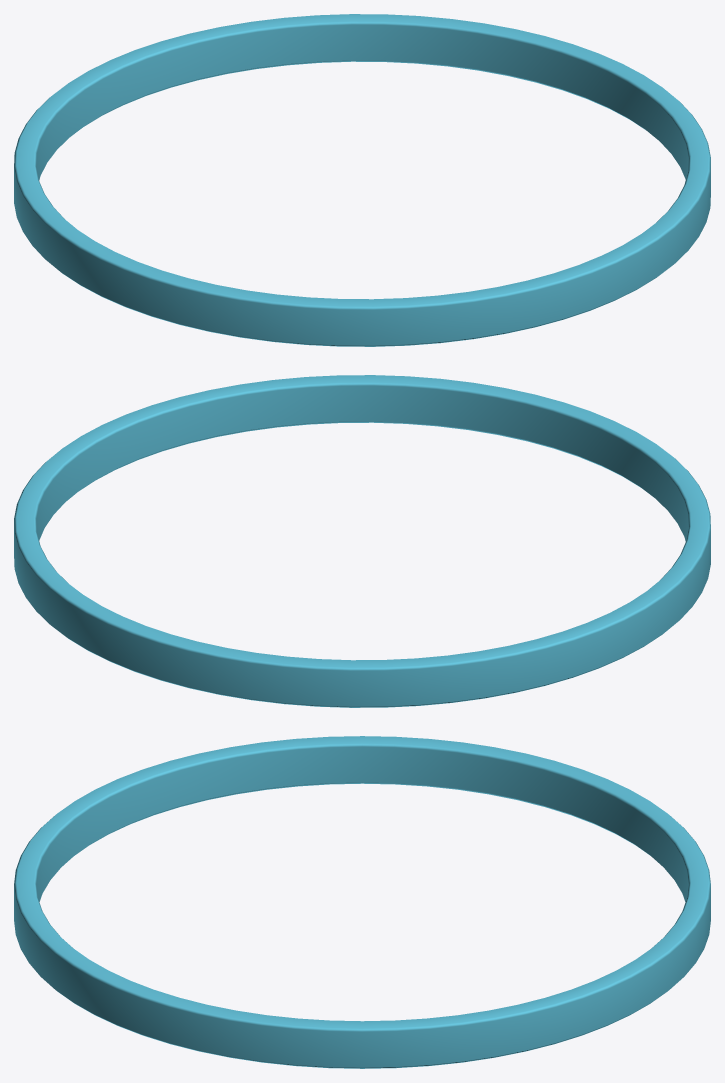
3 views of the same model, one above another, from view 1: azimuth 30°, elevation 25°; view 2: azimuth 150°, elevation 25°; view 3: azimuth 270°, elevation 25° (orthographic).
Visible parts, largest first — view 1: seal_body; view 2: seal_body; view 3: seal_body.
Part boxes in pixels (left/top/right/bottom): seal_body: left=14, top=14, right=710, bottom=346; seal_body: left=14, top=375, right=710, bottom=707; seal_body: left=14, top=736, right=710, bottom=1068.
Size of the model in its own units: 0.2477 by 0.0159 by 0.2477.
